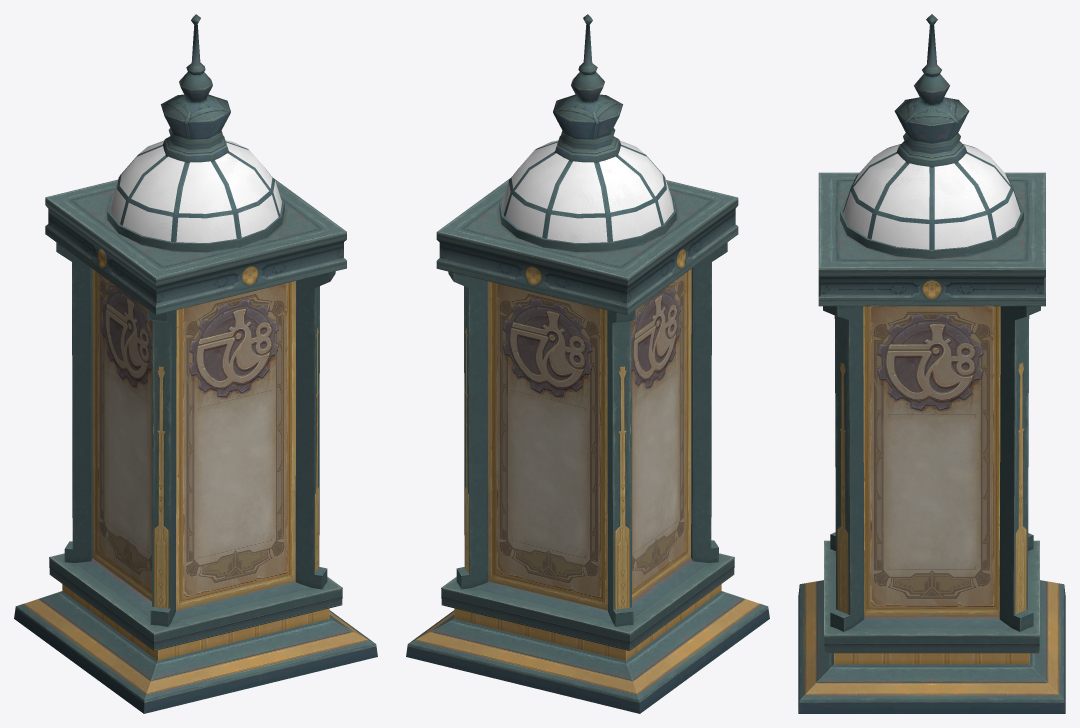
Rendered from Homeworld_Exterior_Fd_Decoration_Prop_ZqnTingzi_01_Vo.fbx.
3 views of the same model, side by side, from view 1: azimuth 30°, elevation 25°; view 2: azimuth 150°, elevation 25°; view 3: azimuth 270°, elevation 25° (orthographic). The views are drawn at different scales.
Parts seen in each view (by area): view 1: Area_Fd_Prop_FDC_Zqnwujian_01_Vo; view 2: Area_Fd_Prop_FDC_Zqnwujian_01_Vo; view 3: Area_Fd_Prop_FDC_Zqnwujian_01_Vo.
Boxes of the visible parts, x1,y1,x2,y2 form: Area_Fd_Prop_FDC_Zqnwujian_01_Vo: (14, 14, 377, 713); Area_Fd_Prop_FDC_Zqnwujian_01_Vo: (406, 14, 769, 713); Area_Fd_Prop_FDC_Zqnwujian_01_Vo: (798, 14, 1065, 713).
Size of the model in its own units: 2.29 by 5.82 by 2.2.
